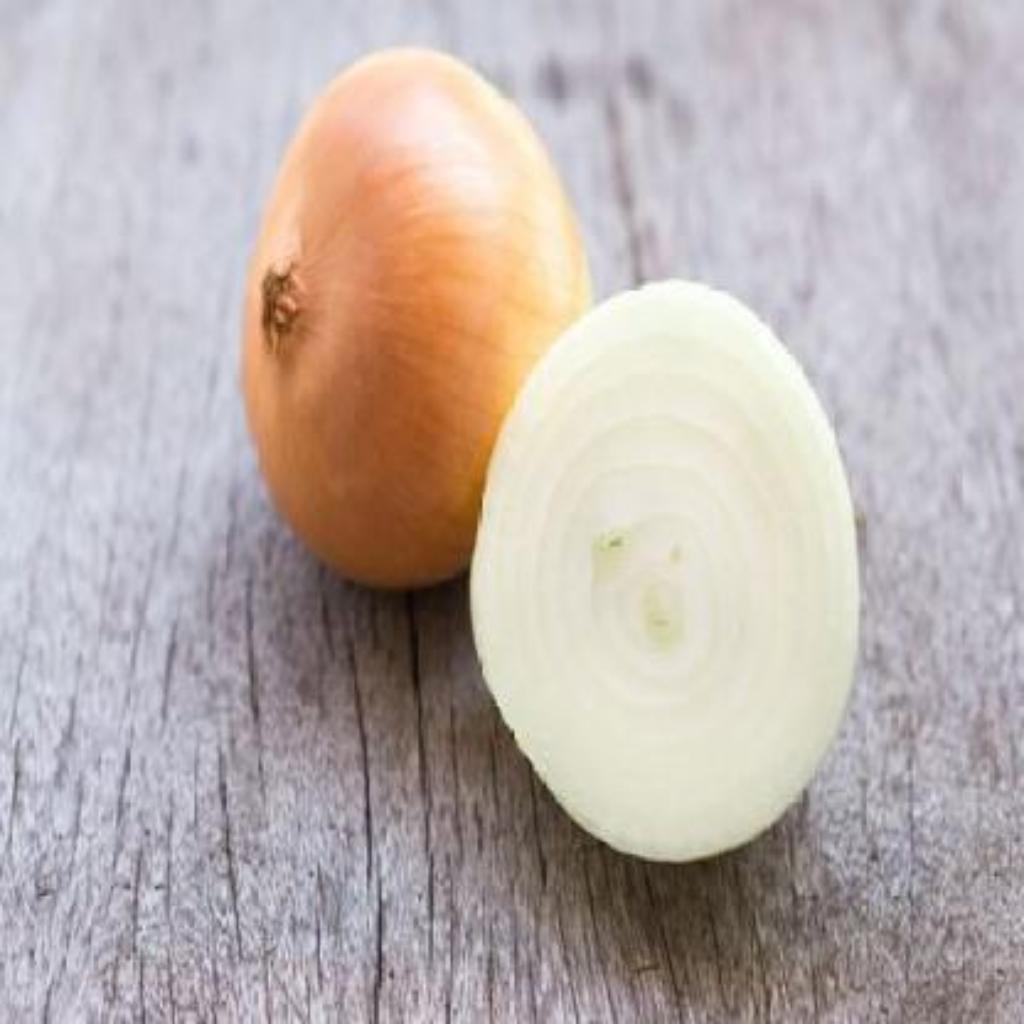Onion: (244, 49, 593, 590)
